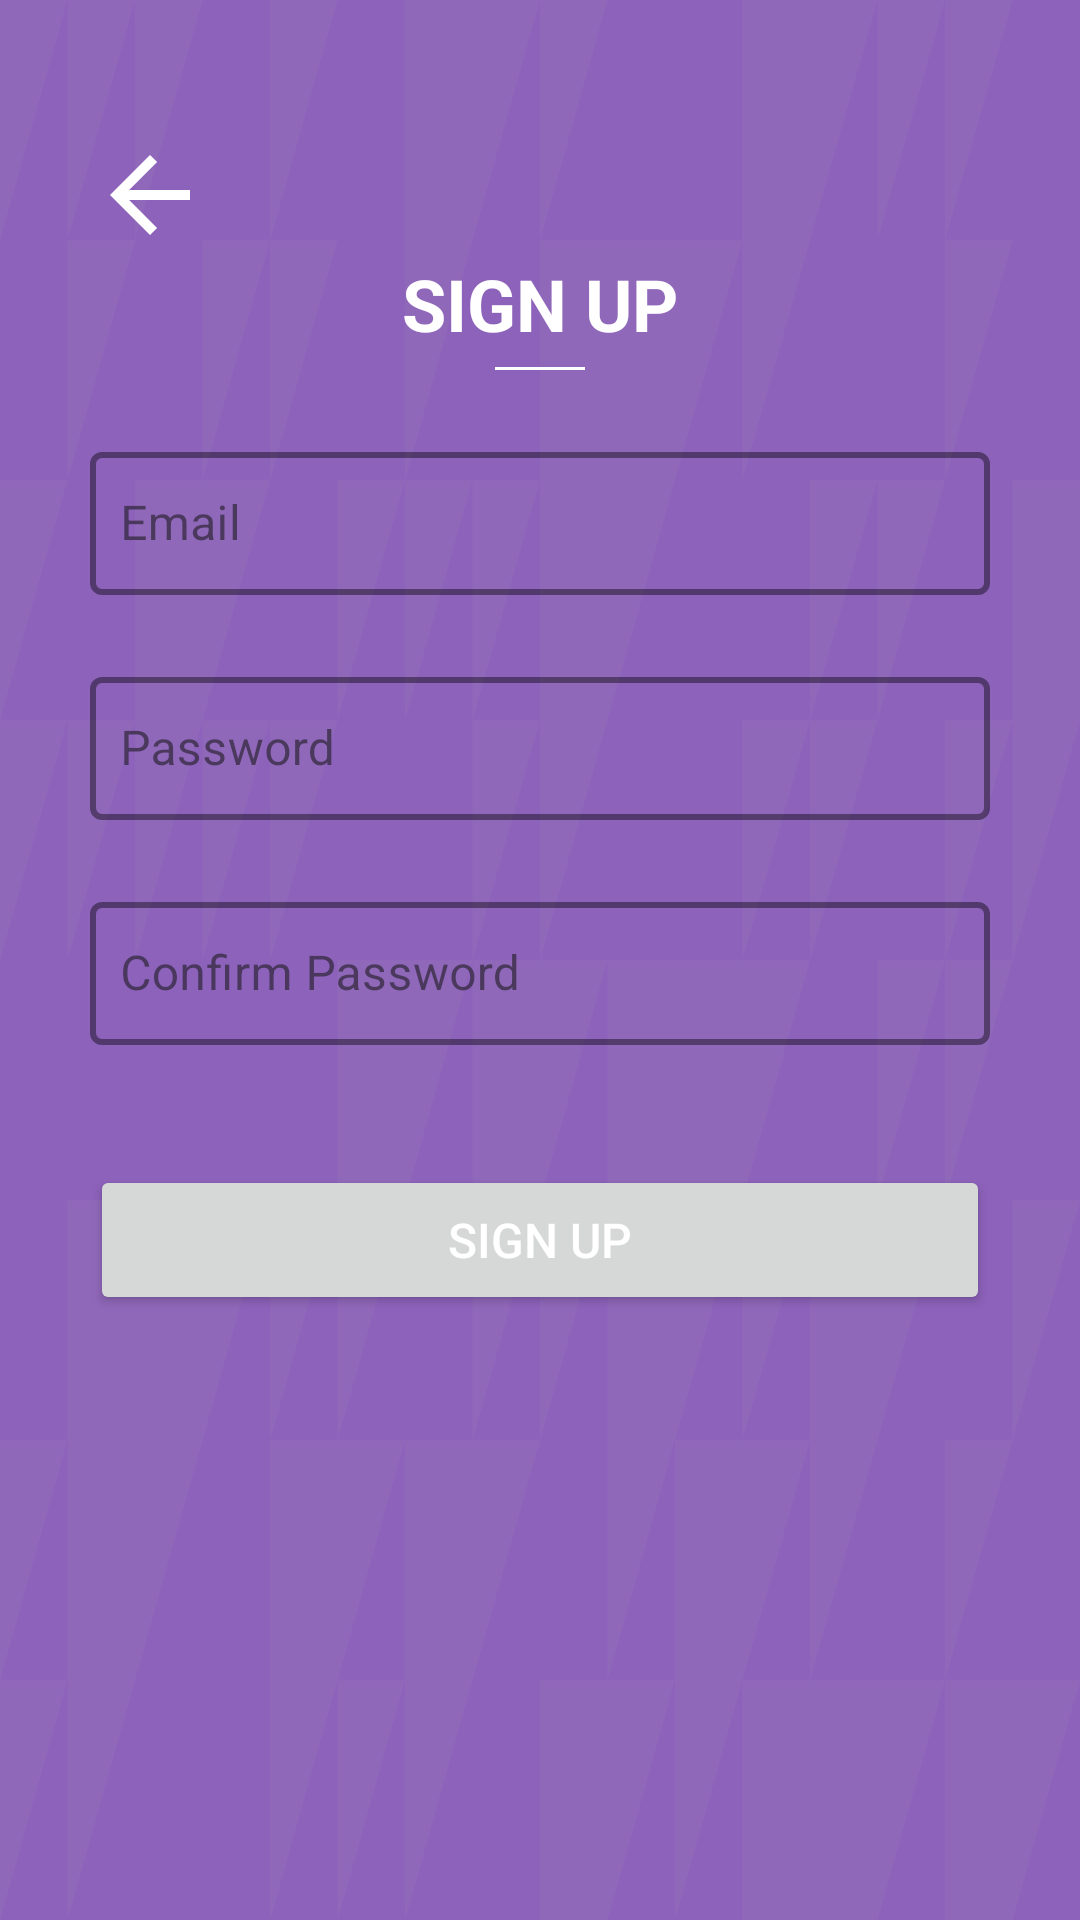

Locate icon controls on the screen. Image size 1080×1920, boxes as bbox(x1, y1, x2, y2).
arrow: bbox(110, 155, 190, 235)
